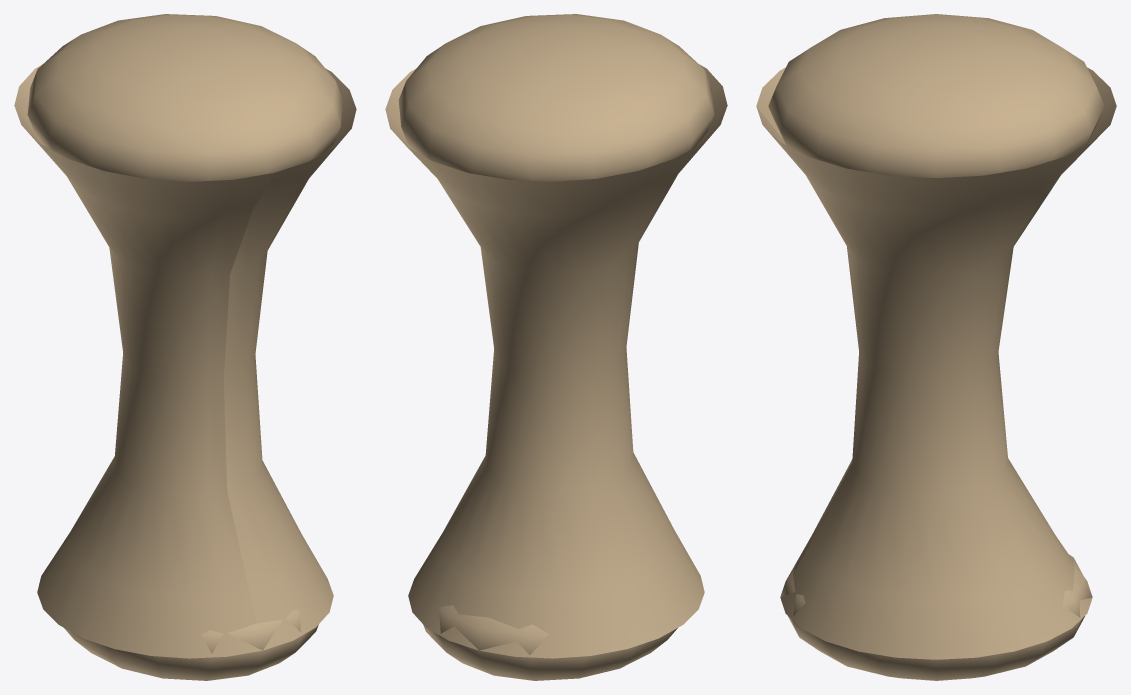
Rendered from right_digit_5_middle.glb.
The picture shows the model from 3 angles, left to right: view 1: azimuth 30°, elevation 25°; view 2: azimuth 150°, elevation 25°; view 3: azimuth 270°, elevation 25°; orthographic projection.
Parts seen in each view (by area): view 1: right_digit_5_middle:diaphysis, right_digit_5_middle:proximal-envelope, right_digit_5_middle:distal-envelope; view 2: right_digit_5_middle:diaphysis, right_digit_5_middle:proximal-envelope, right_digit_5_middle:distal-envelope; view 3: right_digit_5_middle:diaphysis, right_digit_5_middle:proximal-envelope, right_digit_5_middle:distal-envelope.
Boxes of the visible parts, <box> form: right_digit_5_middle:diaphysis: <box>14,64,356,658</box>; right_digit_5_middle:proximal-envelope: <box>27,14,343,181</box>; right_digit_5_middle:distal-envelope: <box>64,610,318,680</box>; right_digit_5_middle:diaphysis: <box>385,64,727,658</box>; right_digit_5_middle:proximal-envelope: <box>398,14,714,181</box>; right_digit_5_middle:distal-envelope: <box>423,605,677,680</box>; right_digit_5_middle:diaphysis: <box>756,67,1116,659</box>; right_digit_5_middle:proximal-envelope: <box>768,14,1104,177</box>; right_digit_5_middle:distal-envelope: <box>780,554,1092,680</box>.
Bounding box in the file's own units: 0.0799 × 0.1598 × 0.0846.
